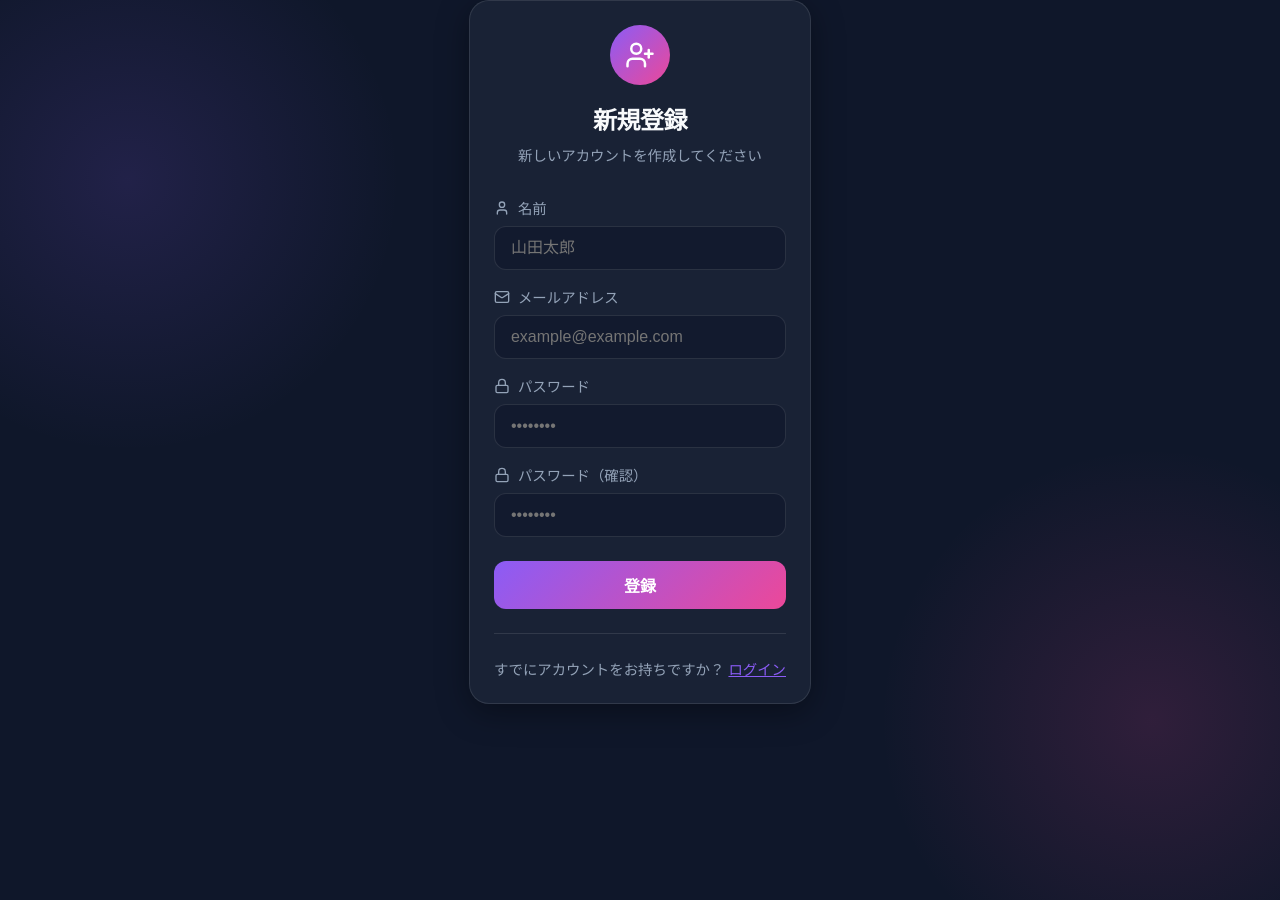
Test: RegisterForm Component › 登録エラーを表示する
The width and height of the screenshot is (1280, 900).
Type "テストユーザー" into the field with placeholder "山田太郎" at (640, 248), box [494,226,786,270]
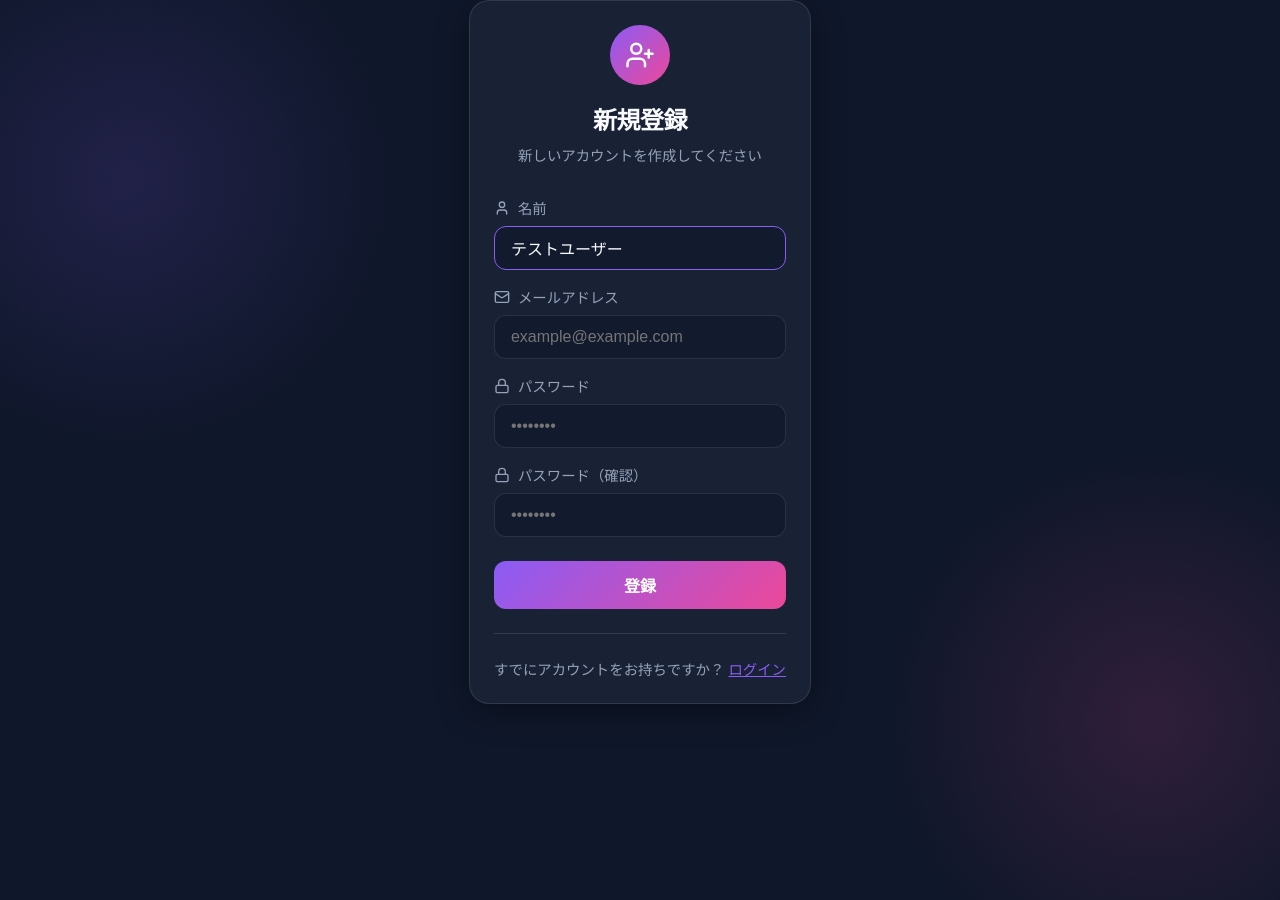
Type "duplicate@example.com" into the field with placeholder "example@example.com" at (640, 337), box [494,315,786,359]
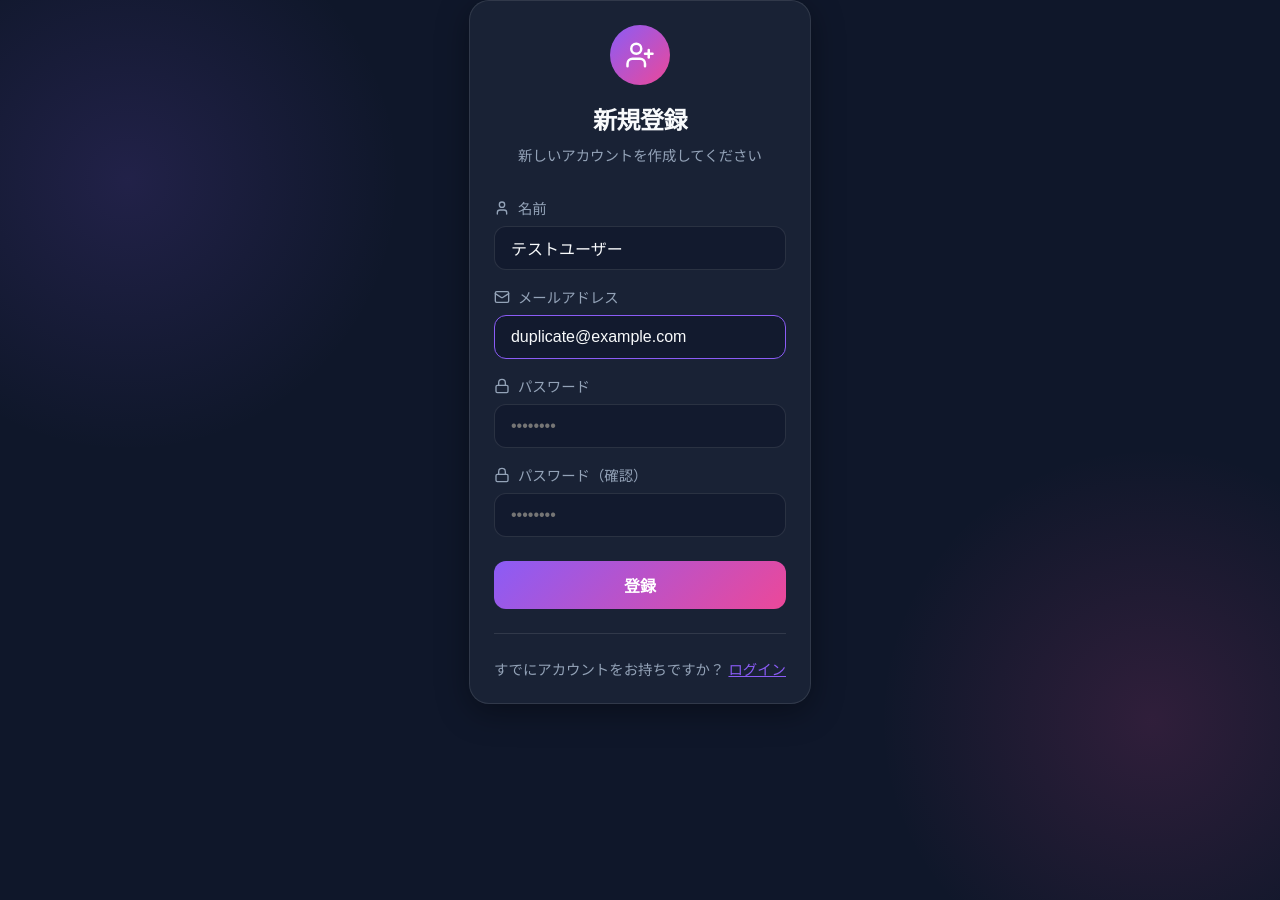
Type "password123" into the 1st password field with placeholder "••••••••" at (640, 426), box [494,404,786,448]
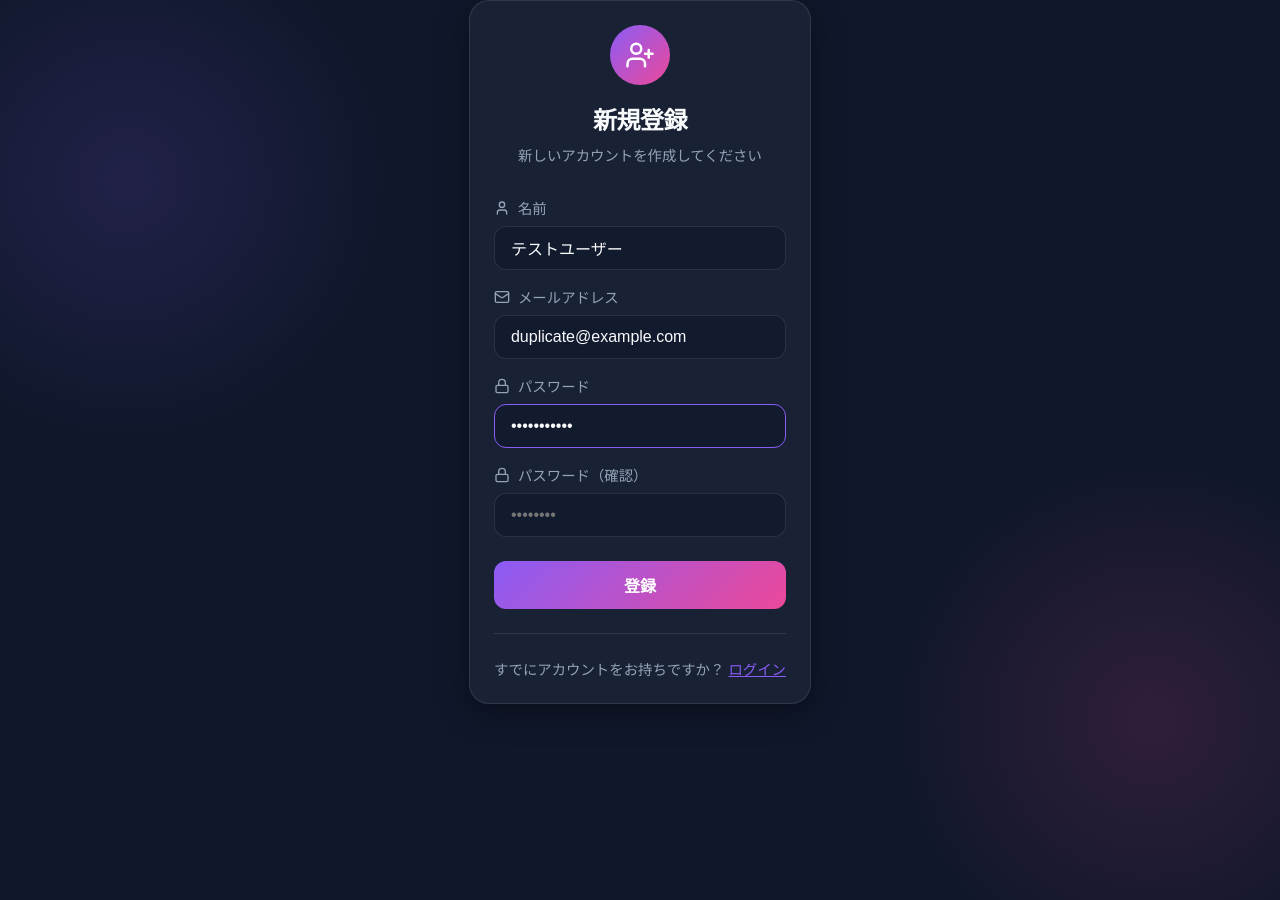
Type "password123" into the password field with placeholder "••••••••" at (640, 515), box [494,493,786,537]
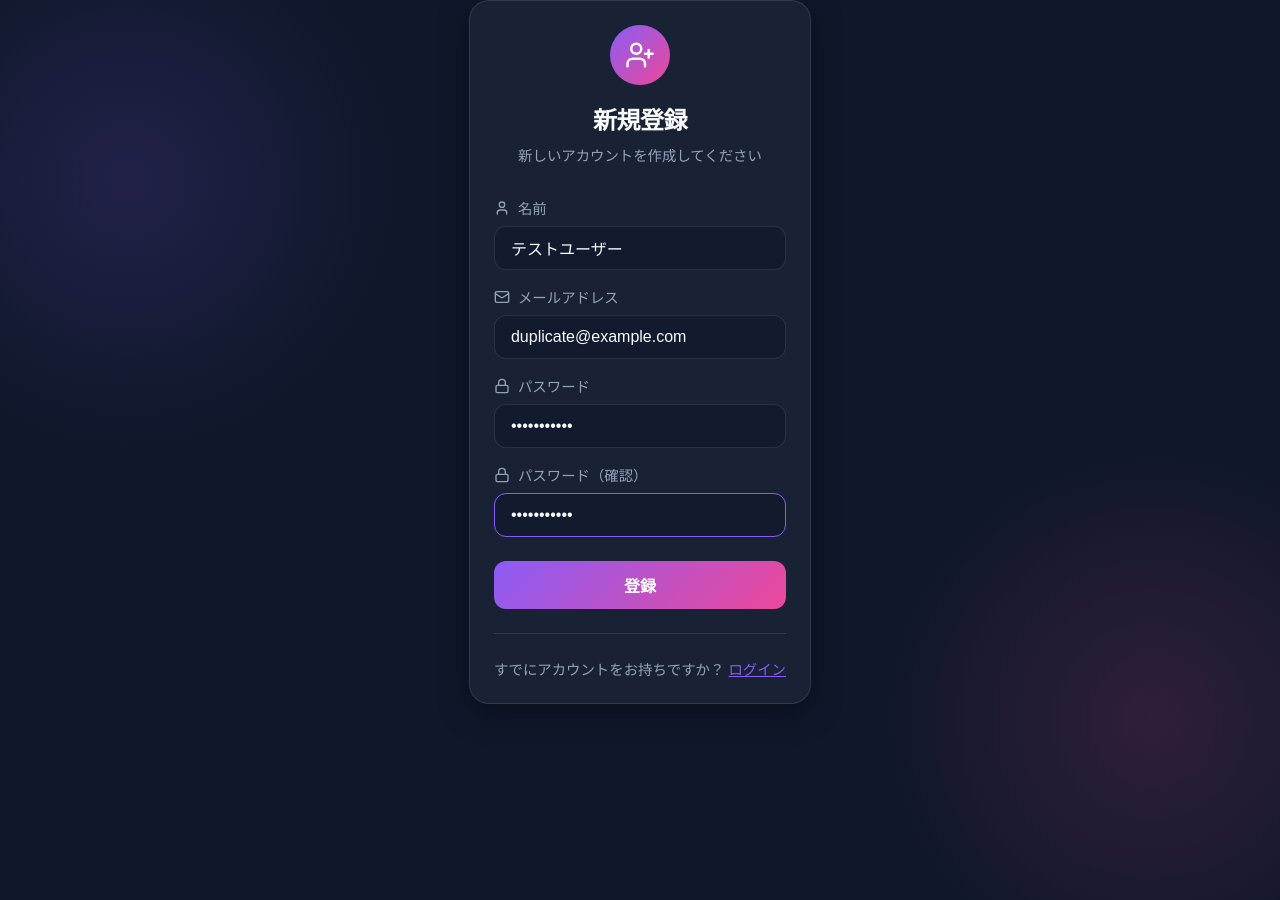
Click the button "登録" at (640, 585), box [494,561,786,609]
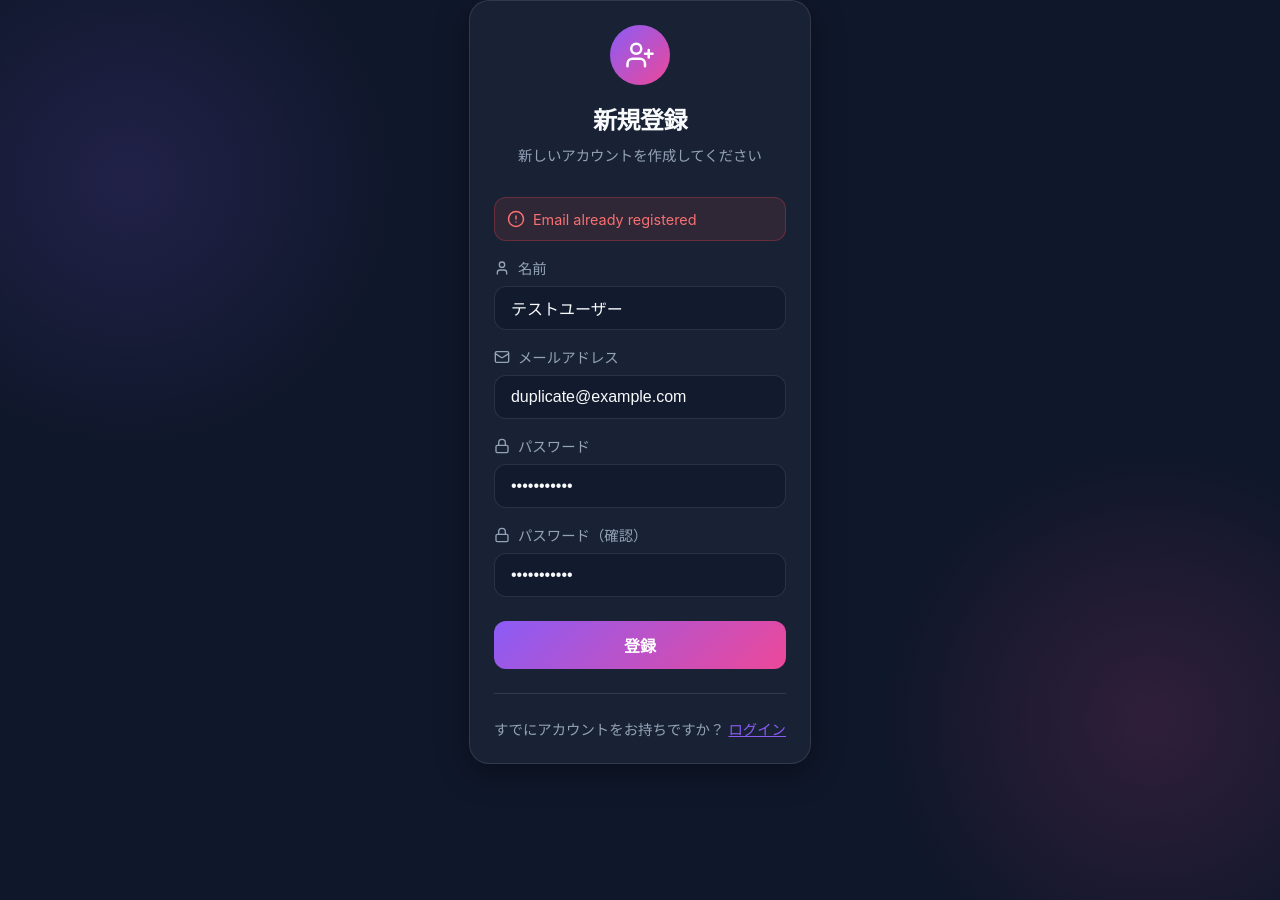
Check: the text "Email already registered" is shown, box [533,210,696,228]
